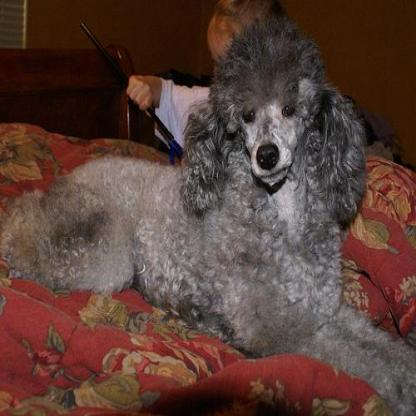miniature_poodle: (1, 14, 414, 413)
